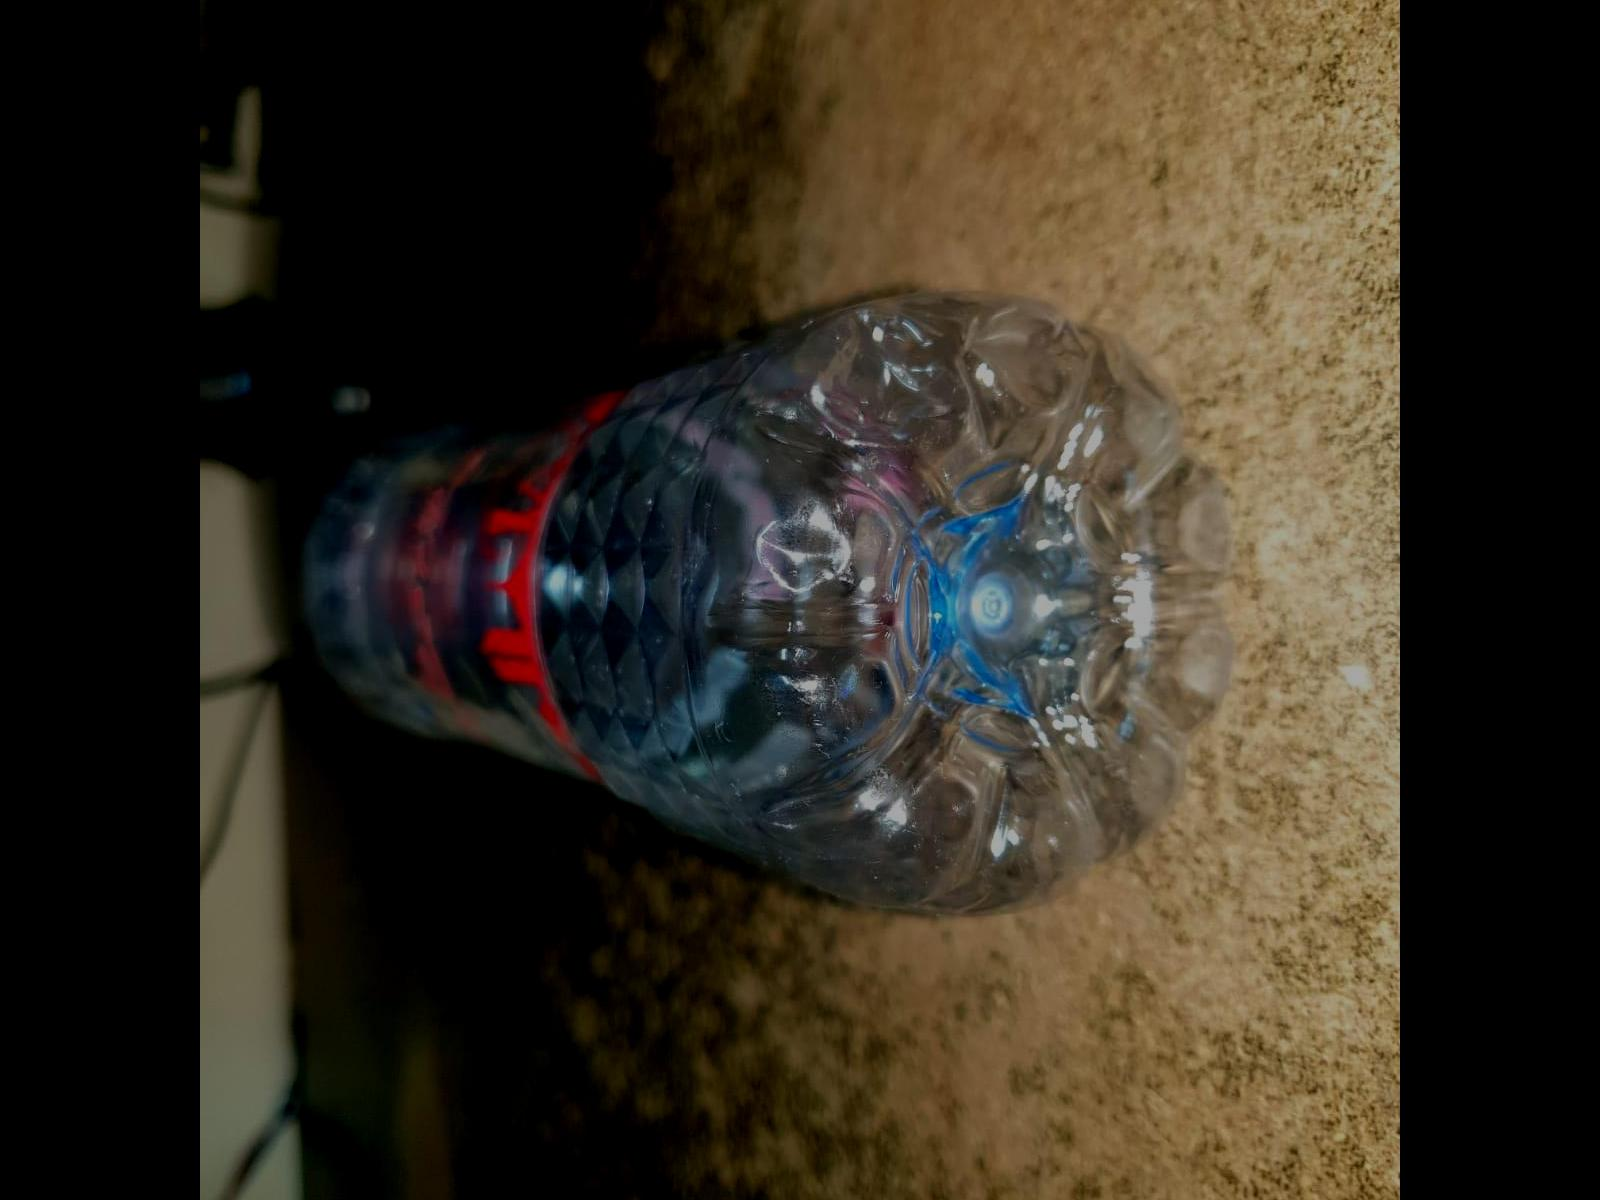bottle: (286, 291, 1249, 919)
